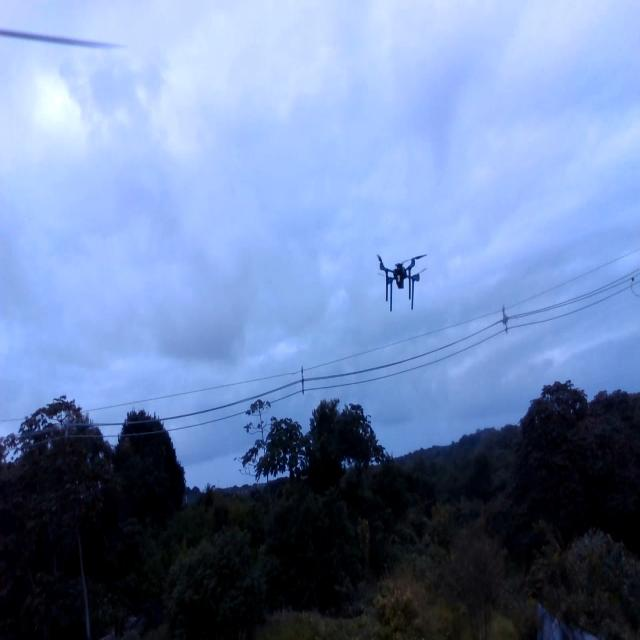-uav-: (368, 246, 437, 317)
